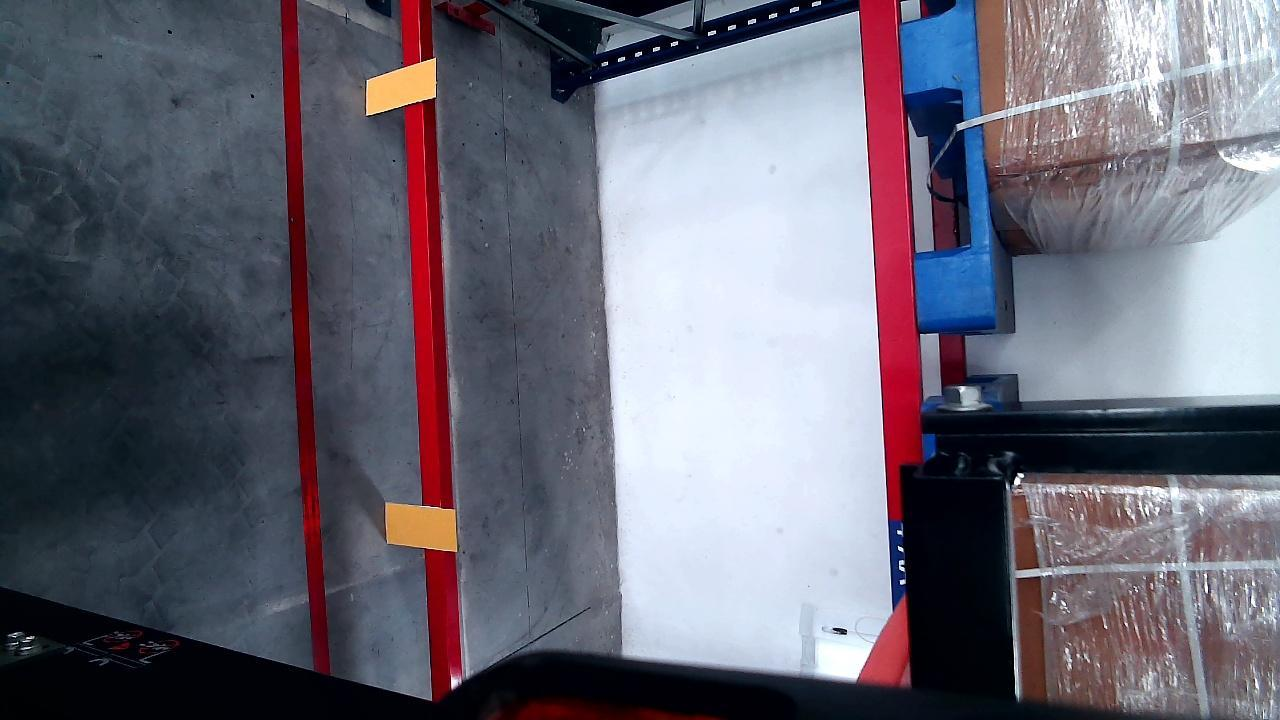red_line: (284, 1, 328, 688)
